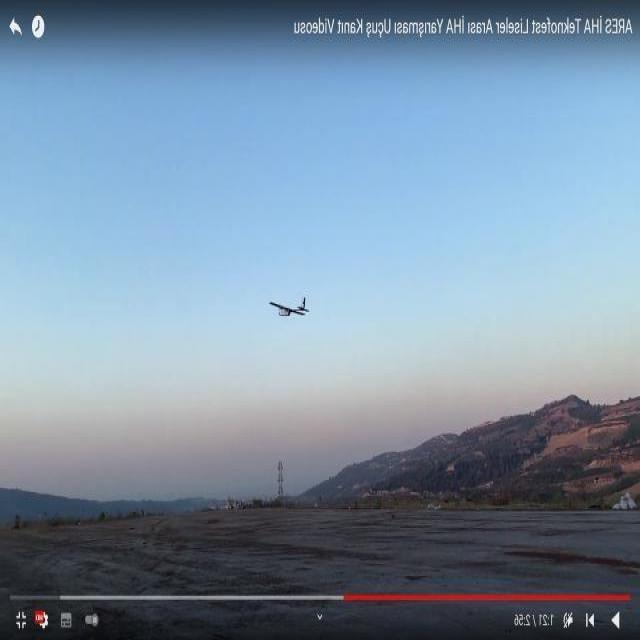Airplane: (269, 291, 311, 326)
